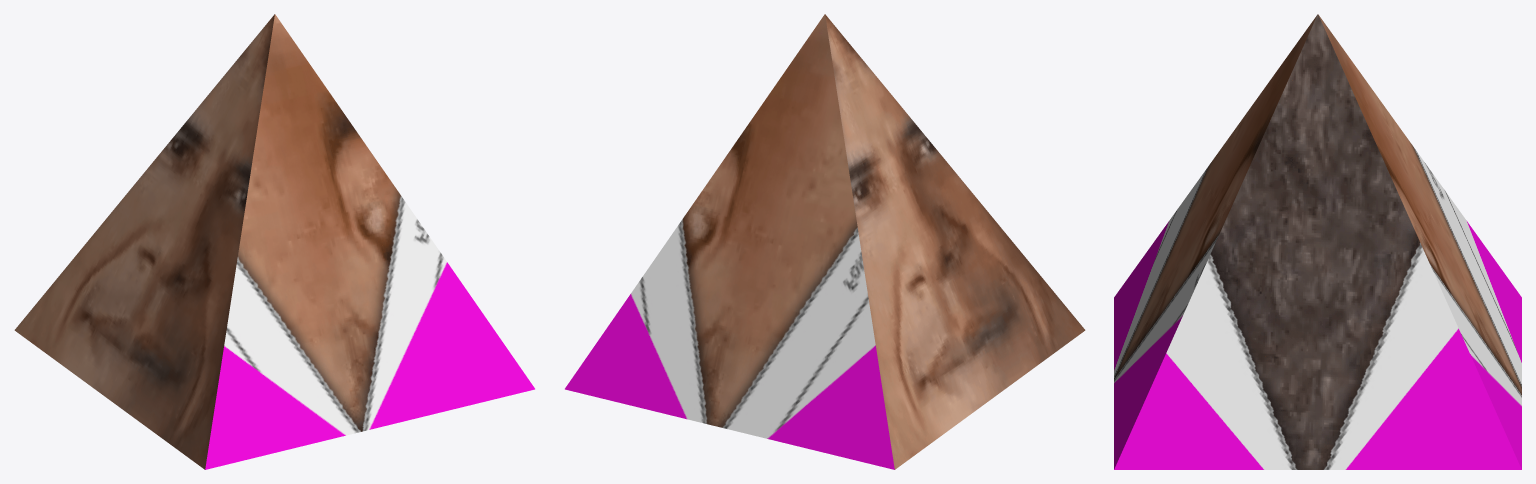
3 renders of one model, left to right at view 1: azimuth 30°, elevation 25°; view 2: azimuth 150°, elevation 25°; view 3: azimuth 270°, elevation 25°, orthographic. The views are drawn at different scales.
Parts seen in each view (by area): view 1: Obamium; view 2: Obamium; view 3: Obamium.
Boxes of the visible parts, bbox=[...] form: Obamium: bbox=[14, 14, 534, 469]; Obamium: bbox=[565, 14, 1085, 469]; Obamium: bbox=[1114, 14, 1521, 469].
Bounding box in the file's own units: 3.18 × 3.18 × 3.18.
